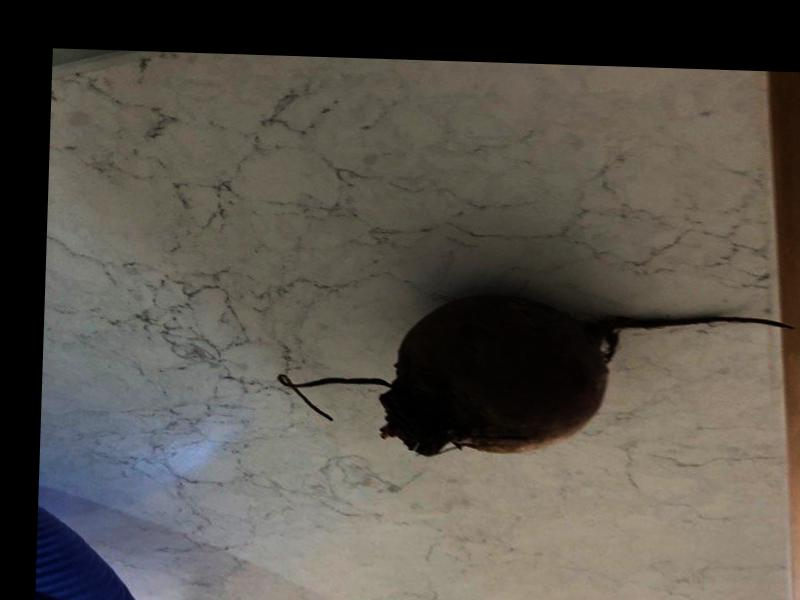Beet: (276, 289, 800, 464)
